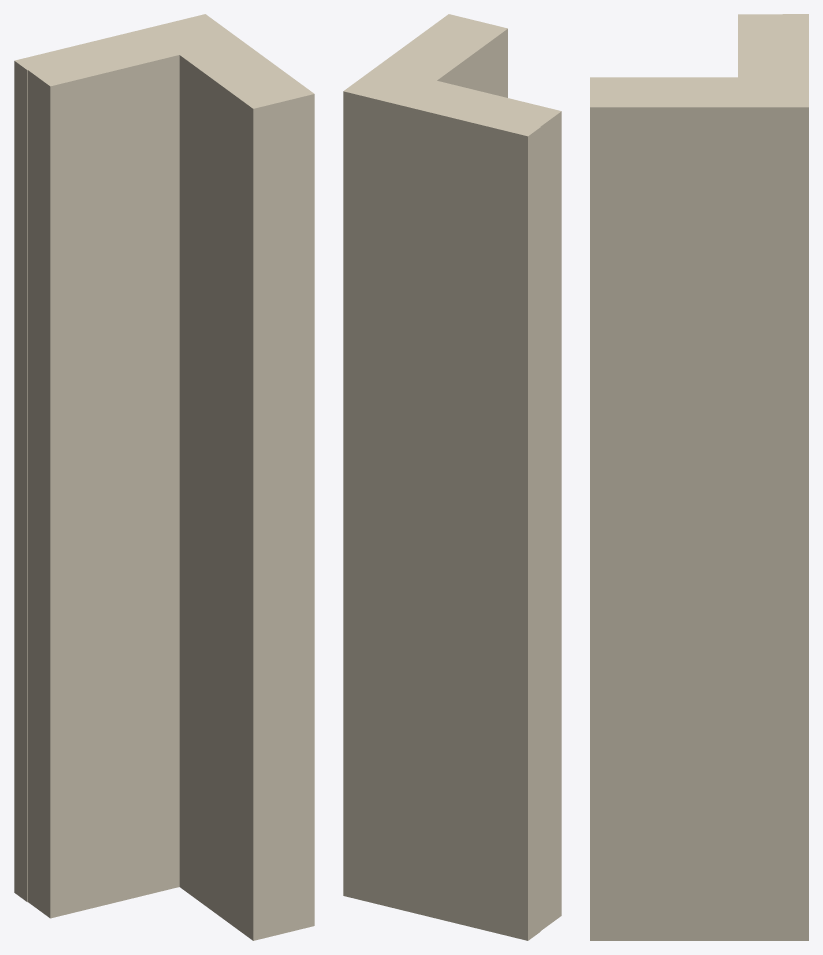
3 renders of one model, left to right at view 1: azimuth 30°, elevation 25°; view 2: azimuth 150°, elevation 25°; view 3: azimuth 270°, elevation 25°, orthographic. The views are drawn at different scales.
Visible parts, largest first — view 1: A-GF-WALL-033; view 2: A-GF-WALL-033; view 3: A-GF-WALL-033.
Boxes of the visible parts, x1,y1,x2,y2 form: A-GF-WALL-033: (14, 14, 314, 940); A-GF-WALL-033: (343, 14, 561, 940); A-GF-WALL-033: (590, 14, 808, 940).
Size of the model in its own units: 0.654 by 2.72 by 0.647.
